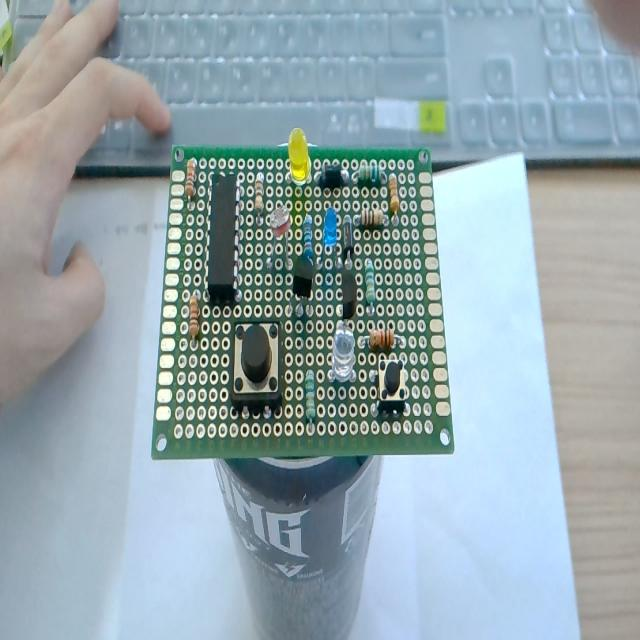IC: (202, 172, 246, 308)
cds: (266, 202, 297, 271)
diode: (314, 161, 350, 186), (342, 210, 356, 268)
led: (327, 324, 359, 389), (286, 122, 313, 192), (320, 204, 342, 272)
resistor: (301, 358, 320, 448), (180, 153, 202, 214), (357, 327, 408, 350), (187, 284, 204, 352), (362, 255, 379, 317), (248, 168, 266, 224), (388, 167, 404, 228), (353, 205, 389, 232), (350, 162, 387, 188), (300, 210, 315, 263)
switch: (224, 316, 289, 412), (367, 352, 412, 421)
transistor: (287, 256, 314, 318), (334, 268, 359, 326)
